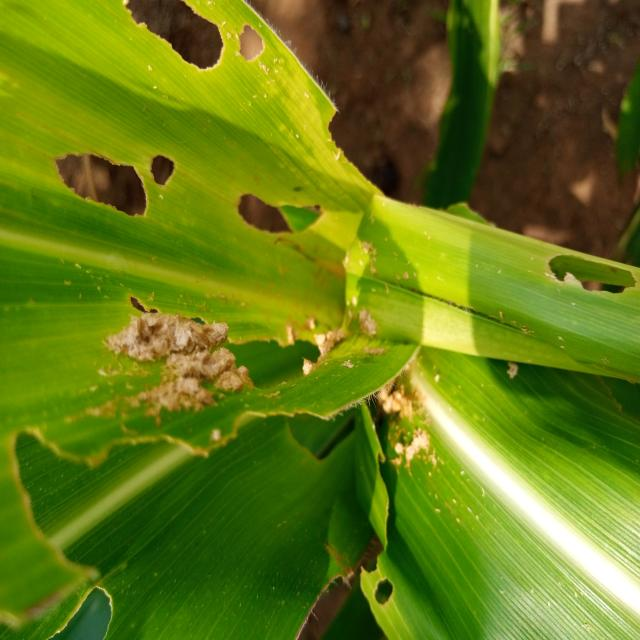fall-armyworm-egg: (85, 287, 271, 450), (339, 343, 475, 478), (287, 260, 391, 389)
fall-armyworm-larval-damage: (0, 375, 129, 640), (154, 365, 358, 484), (115, 0, 242, 113), (34, 129, 169, 223), (198, 310, 343, 396), (219, 166, 330, 269), (515, 235, 640, 313), (337, 520, 410, 634), (226, 17, 287, 87), (146, 142, 200, 195)
